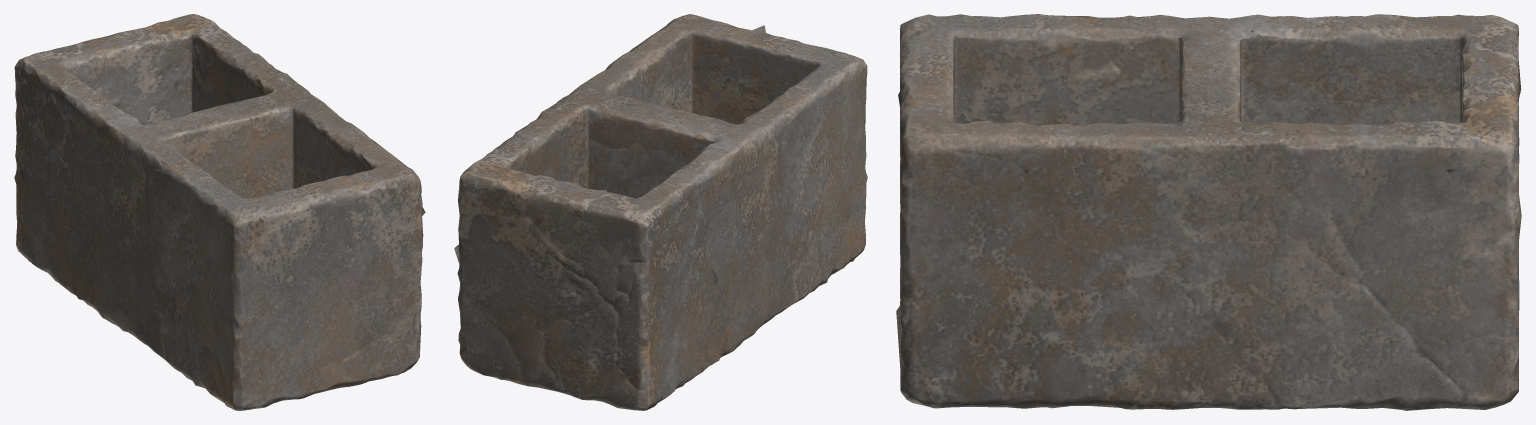
Rendered from SM_Brick_01a.fbx.
3 views of the same model, side by side, from view 1: azimuth 30°, elevation 25°; view 2: azimuth 150°, elevation 25°; view 3: azimuth 270°, elevation 25° (orthographic). The views are drawn at different scales.
Parts seen in each view (by area): view 1: SM_Brick_01a_LOD0; view 2: SM_Brick_01a_LOD0; view 3: SM_Brick_01a_LOD0.
Boxes of the visible parts, x1=… form: SM_Brick_01a_LOD0: x1=14, y1=14, x2=425, y2=410; SM_Brick_01a_LOD0: x1=454, y1=14, x2=867, y2=410; SM_Brick_01a_LOD0: x1=896, y1=14, x2=1521, y2=410.
Size of the model in its own units: 19.85 by 39.41 by 19.73.
